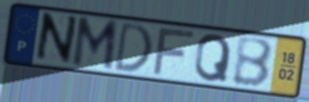B: (231, 37, 275, 90)
D: (112, 20, 155, 74)
F: (150, 27, 198, 78)
M: (69, 15, 120, 74)
N: (31, 11, 80, 67)
Q: (193, 32, 234, 84)
